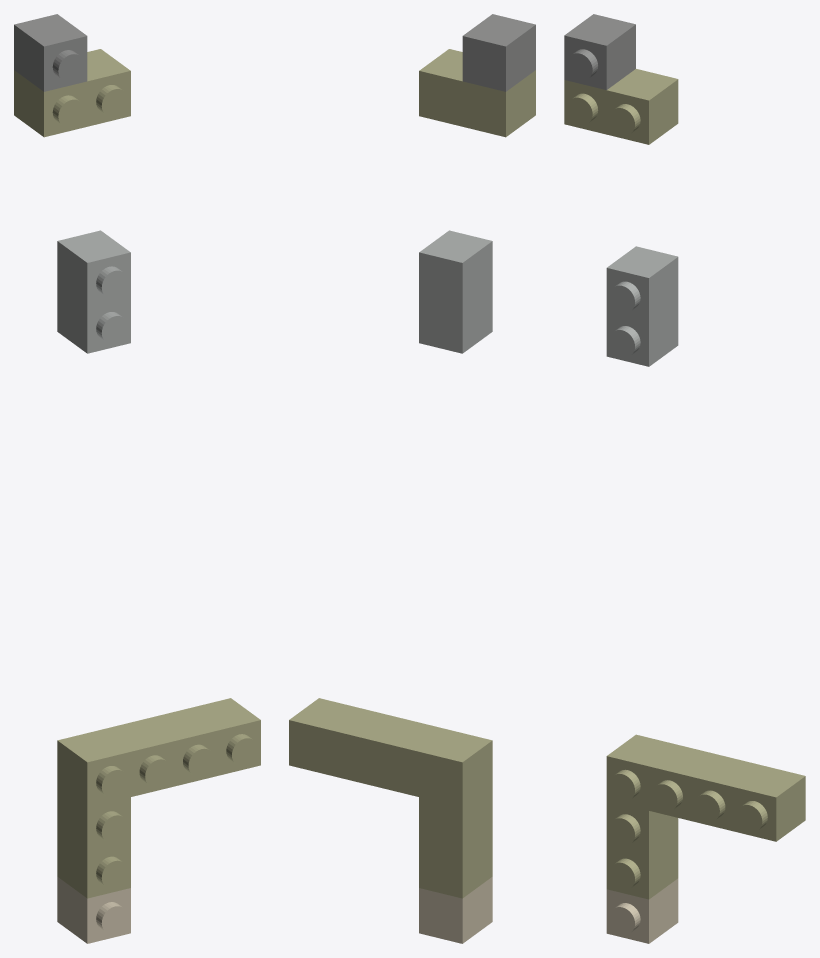
Rendered from current.glb.
The picture shows the model from 3 angles, left to right: view 1: azimuth 30°, elevation 25°; view 2: azimuth 150°, elevation 25°; view 3: azimuth 330°, elevation 25°; orthographic projection. The views are drawn at different scales.
Visible parts, largest first — view 1: world; view 2: world; view 3: world.
Boxes of the visible parts, x1=… form: world: x1=14, y1=14, x2=260, y2=943; world: x1=289, y1=14, x2=535, y2=943; world: x1=564, y1=14, x2=805, y2=943.
Bounding box in the file's own units: 40 × 160 × 11.4.
